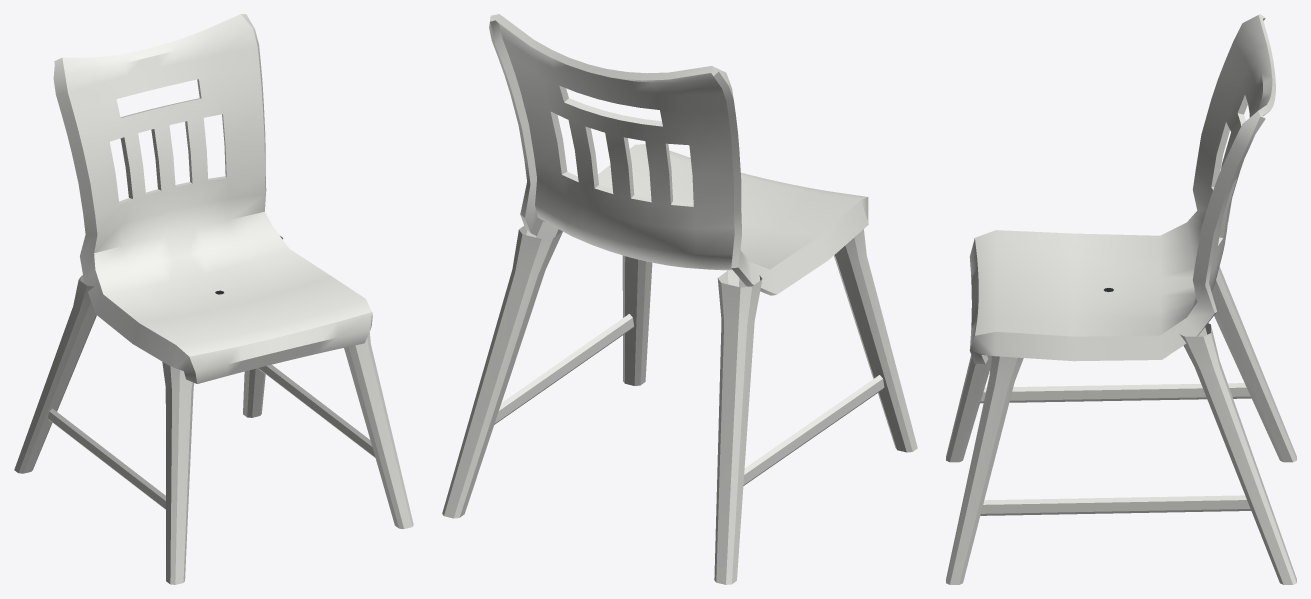
The model's file is SC_Ter_Chair_Plastic_White.gltf.
The picture shows the model from 3 angles, left to right: view 1: azimuth 30°, elevation 25°; view 2: azimuth 150°, elevation 25°; view 3: azimuth 270°, elevation 25°; orthographic projection. The views are drawn at different scales.
Parts seen in each view (by area): view 1: SC_Ter_Chair_Plastic_White; view 2: SC_Ter_Chair_Plastic_White; view 3: SC_Ter_Chair_Plastic_White.
Part boxes in pixels (x1=…): SC_Ter_Chair_Plastic_White: x1=14, y1=14, x2=413, y2=584; SC_Ter_Chair_Plastic_White: x1=442, y1=14, x2=917, y2=584; SC_Ter_Chair_Plastic_White: x1=946, y1=14, x2=1296, y2=584.
Bounding box in the file's own units: 0.5363 × 0.8763 × 0.6094.
1 material, 1 textured.
